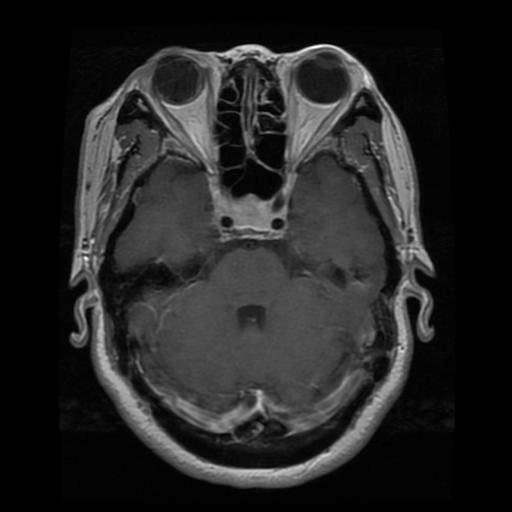Tumour-Pituitary: (206, 190, 298, 250)
